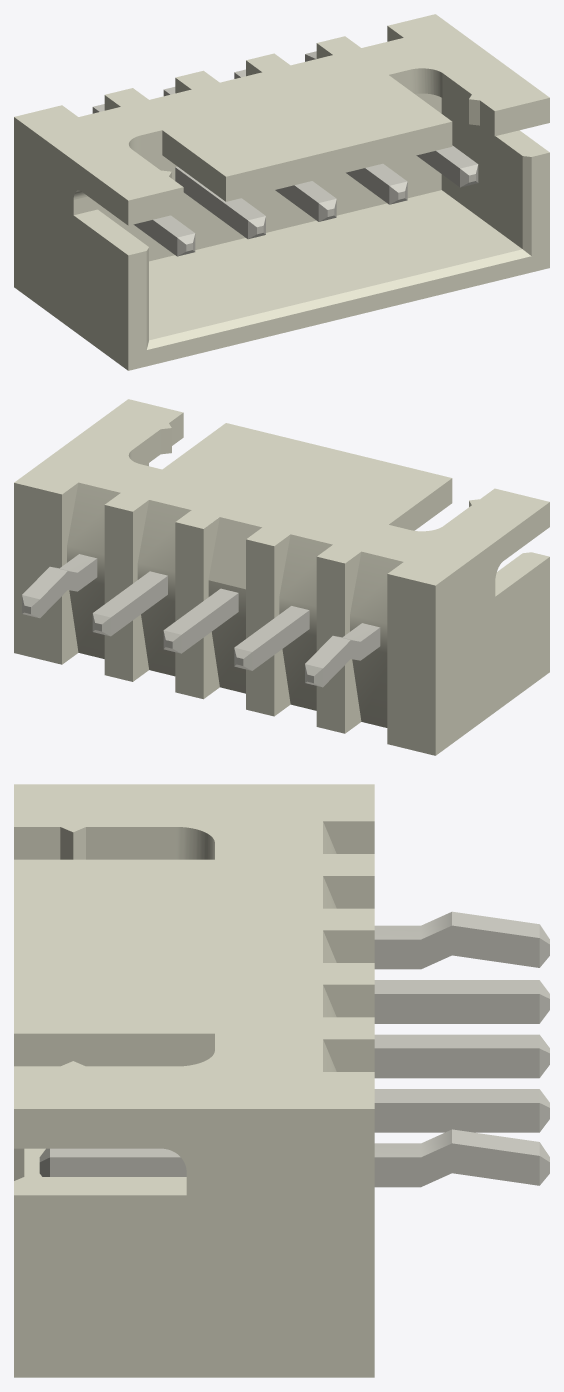
The model's file is jst-xh-5.glb.
The picture shows the model from 3 angles, top to bottom: view 1: azimuth 30°, elevation 25°; view 2: azimuth 150°, elevation 25°; view 3: azimuth 270°, elevation 25°; orthographic projection. The views are drawn at different scales.
Visible parts, largest first — view 1: PLASTIC-WHITE-01, PIN-01; view 2: PLASTIC-WHITE-01, PIN-01; view 3: PLASTIC-WHITE-01, PIN-01.
Boxes of the visible parts, <box> form: PLASTIC-WHITE-01: <box>14,14,549,370</box>; PIN-01: <box>92,51,478,256</box>; PLASTIC-WHITE-01: <box>14,399,549,755</box>; PIN-01: <box>22,554,380,687</box>; PLASTIC-WHITE-01: <box>14,784,374,1377</box>; PIN-01: <box>39,911,549,1187</box>.
Size of the model in its own units: 14.9 by 5.75 by 10.4.
